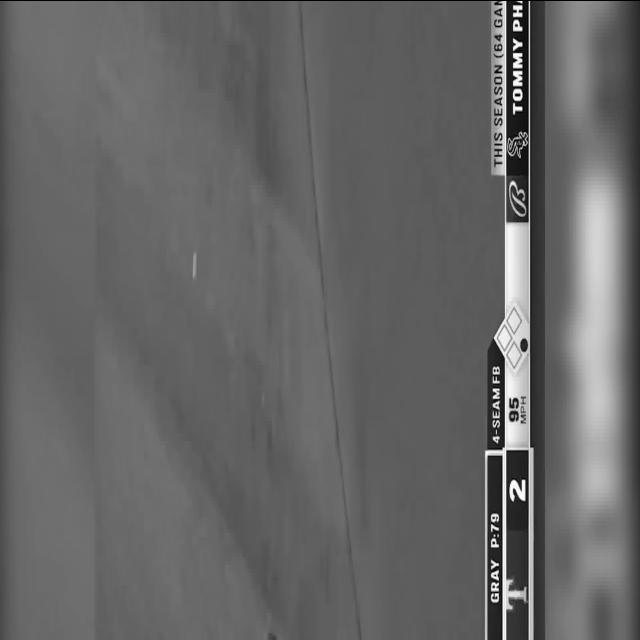baseball: (192, 251, 198, 279)
